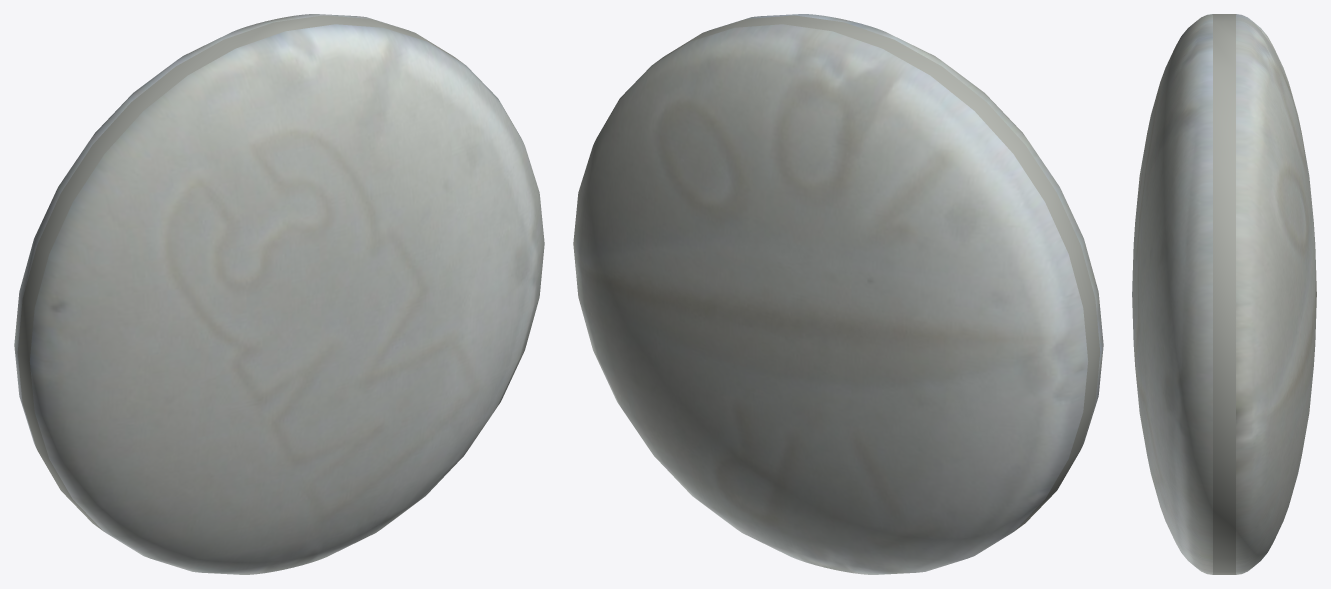
The model's file is 20150421GOPHDRGPT22491.fbx.
The picture shows the model from 3 angles, left to right: view 1: azimuth 30°, elevation 25°; view 2: azimuth 150°, elevation 25°; view 3: azimuth 270°, elevation 25°; orthographic projection. The views are drawn at different scales.
Visible parts, largest first — view 1: 球體.003; view 2: 球體.003; view 3: 球體.003.
Part boxes in pixels (box(x1,y1,x2,y2)): 球體.003: box(14, 14, 544, 574); 球體.003: box(573, 14, 1103, 574); 球體.003: box(1132, 14, 1316, 574).
Size of the model in its own units: 48.31 by 48.31 by 15.9.
2 materials, 1 textured.
